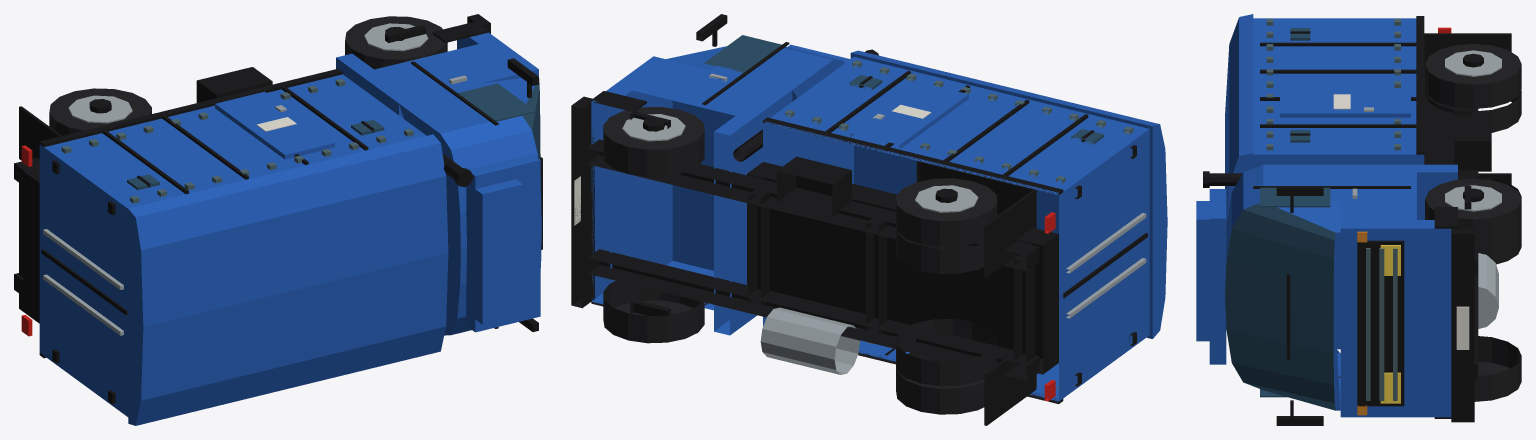
The picture shows the model from 3 angles, left to right: view 1: azimuth 30°, elevation 25°; view 2: azimuth 150°, elevation 25°; view 3: azimuth 270°, elevation 25°; orthographic projection. The views are drawn at different scales.
Parts seen in each view (by area): view 1: default_roof, default_body, default_cab_upper, default_air_dam_top, default_air_dam, default_cab_arch, default_side1_-0.90_1.95_cc1, default_front1, default_rear_out1, default_subframe, default_side1_-3.60_1.75_black, default_cab_back (+11 smaller); view 2: default_body, default_subframe, default_cab_arch, default_chassis-1, default_roof, default_cab_front, default_cab_back, default_chassis1, default_front1, default_rear_out1, default_fuel_tank, default_front-1 (+18 smaller); view 3: default_cab_upper, default_body, default_cab_front, default_rear_out1, default_grille, default_roof, default_front1, default_bumper, default_cab_arch, default_side1_-0.90_1.95_cc1, default_air_dam, default_front-1 (+27 smaller).
Part boxes in pixels (x1=…): default_roof: x1=128, y1=134, x2=448, y2=425; default_body: x1=39, y1=74, x2=426, y2=416; default_cab_upper: x1=399, y1=78, x2=541, y2=335; default_air_dam_top: x1=475, y1=179, x2=522, y2=324; default_air_dam: x1=466, y1=153, x2=540, y2=332; default_cab_arch: x1=374, y1=44, x2=519, y2=99; default_side1_-0.90_1.95_cc1: x1=215, y1=91, x2=334, y2=159; default_front1: x1=345, y1=16, x2=447, y2=69; default_rear_out1: x1=49, y1=88, x2=151, y2=135; default_subframe: x1=23, y1=167, x2=39, y2=312; default_side1_-3.60_1.75_black: x1=39, y1=68, x2=342, y2=146; default_cab_back: x1=336, y1=53, x2=414, y2=118; default_body: x1=763, y1=57, x2=1149, y2=401; default_subframe: x1=747, y1=162, x2=1058, y2=374; default_cab_arch: x1=632, y1=61, x2=775, y2=310; default_chassis-1: x1=586, y1=249, x2=1039, y2=380; default_roof: x1=850, y1=50, x2=1167, y2=338; default_cab_front: x1=591, y1=56, x2=672, y2=304; default_cab_back: x1=714, y1=86, x2=792, y2=335; default_chassis1: x1=586, y1=139, x2=1039, y2=271; default_front1: x1=603, y1=107, x2=704, y2=176; default_rear_out1: x1=896, y1=178, x2=997, y2=246; default_fuel_tank: x1=760, y1=307, x2=859, y2=374; default_front-1: x1=603, y1=281, x2=704, y2=343; default_cab_upper: x1=1225, y1=164, x2=1340, y2=410; default_body: x1=1253, y1=18, x2=1424, y2=349; default_cab_front: x1=1340, y1=220, x2=1451, y2=417; default_rear_out1: x1=1425, y1=44, x2=1521, y2=108; default_grille: x1=1357, y1=240, x2=1404, y2=406; default_roof: x1=1225, y1=14, x2=1253, y2=224; default_front1: x1=1425, y1=178, x2=1521, y2=244; default_bumper: x1=1451, y1=228, x2=1474, y2=422; default_cab_arch: x1=1340, y1=172, x2=1416, y2=219; default_side1_-0.90_1.95_cc1: x1=1280, y1=90, x2=1410, y2=117; default_air_dam: x1=1209, y1=189, x2=1226, y2=364; default_front-1: x1=1474, y1=336, x2=1521, y2=401.
Bounding box in the file's own units: 7.56 × 3.9 × 4.85.
